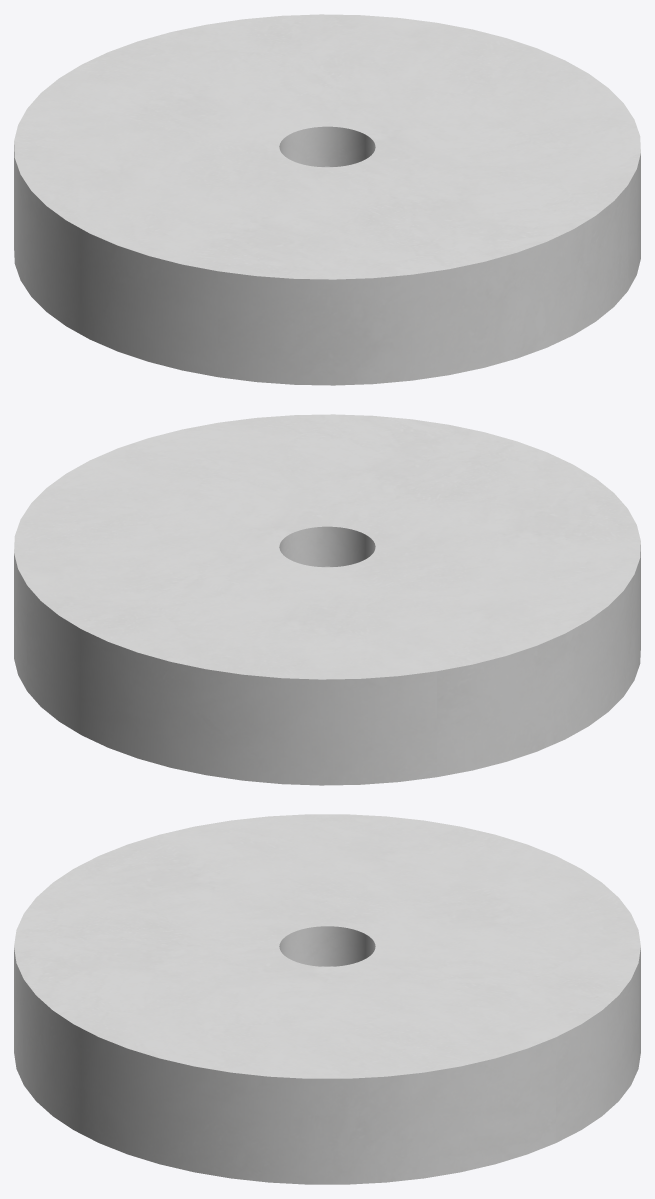
File: Room.fbx
The picture shows the model from 3 angles, top to bottom: view 1: azimuth 30°, elevation 25°; view 2: azimuth 150°, elevation 25°; view 3: azimuth 270°, elevation 25°; orthographic projection.
Visible parts, largest first — view 1: RoomOut, RoomIn; view 2: RoomOut, RoomIn; view 3: RoomOut, RoomIn.
Part boxes in pixels (x1=…): RoomOut: x1=14, y1=14, x2=640, y2=385; RoomIn: x1=279, y1=126, x2=375, y2=167; RoomOut: x1=14, y1=414, x2=640, y2=785; RoomIn: x1=279, y1=526, x2=375, y2=567; RoomOut: x1=14, y1=814, x2=640, y2=1184; RoomIn: x1=279, y1=926, x2=375, y2=966.
Size of the model in its own units: 4788 by 894 by 4797.
